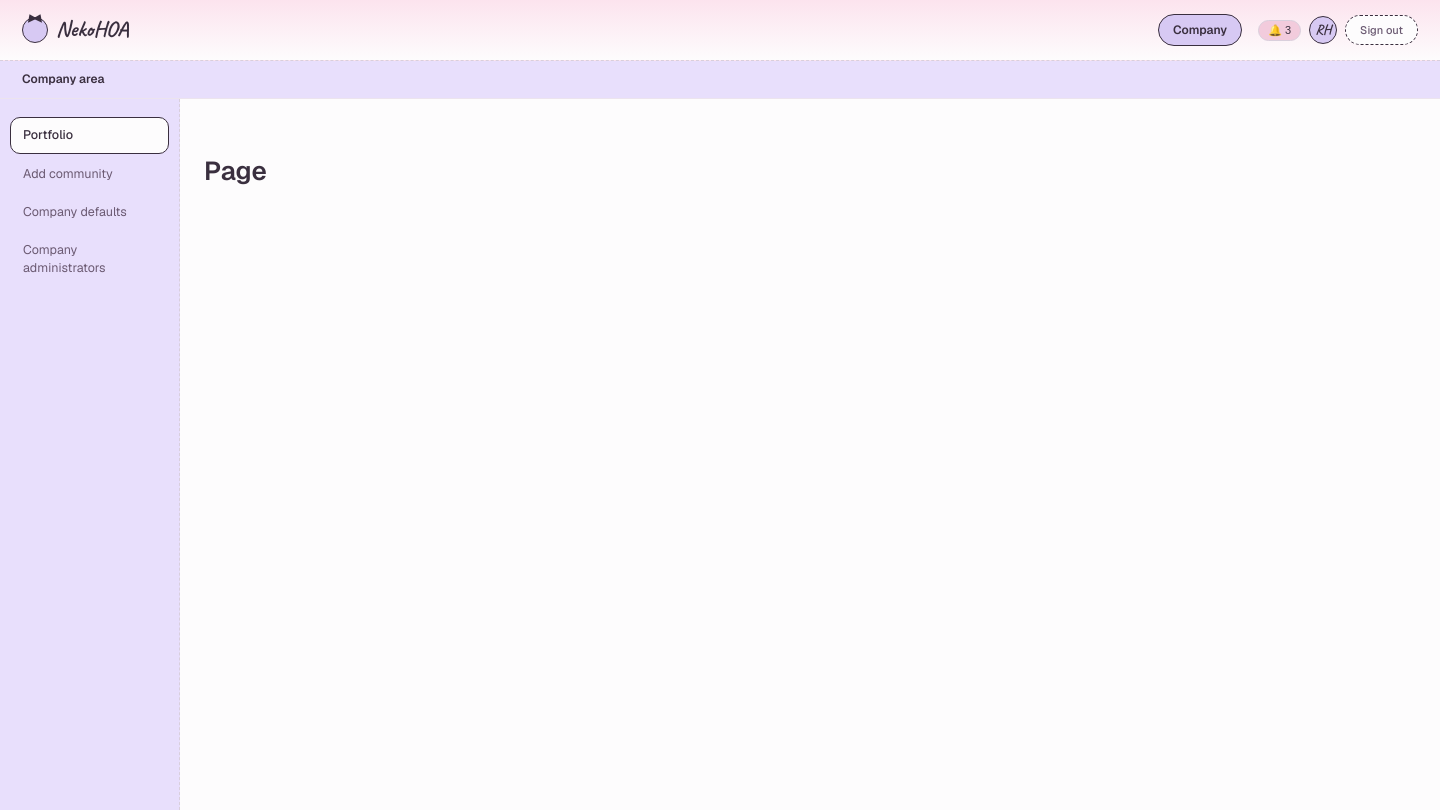
it: ShellComponent — company area (030 T069) › closes the menu on a click outside it, and on Tab
Click the button with aria-label "Company area menu": x=1200, y=30 x1=1158 y1=14 x2=1242 y2=46
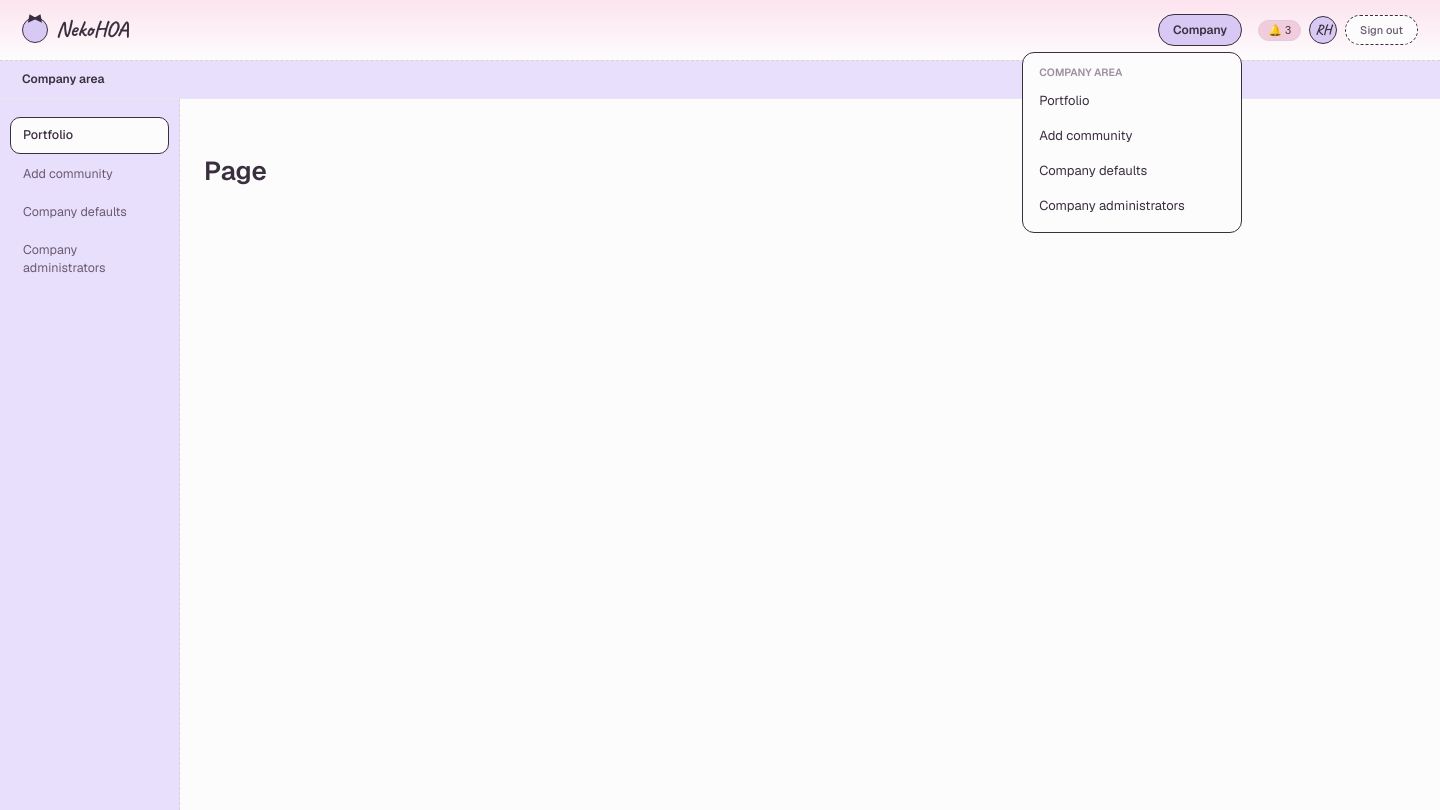
Click the element that starts with "NekoHOA": x=720, y=405 x1=0 y1=0 x2=1439 y2=809
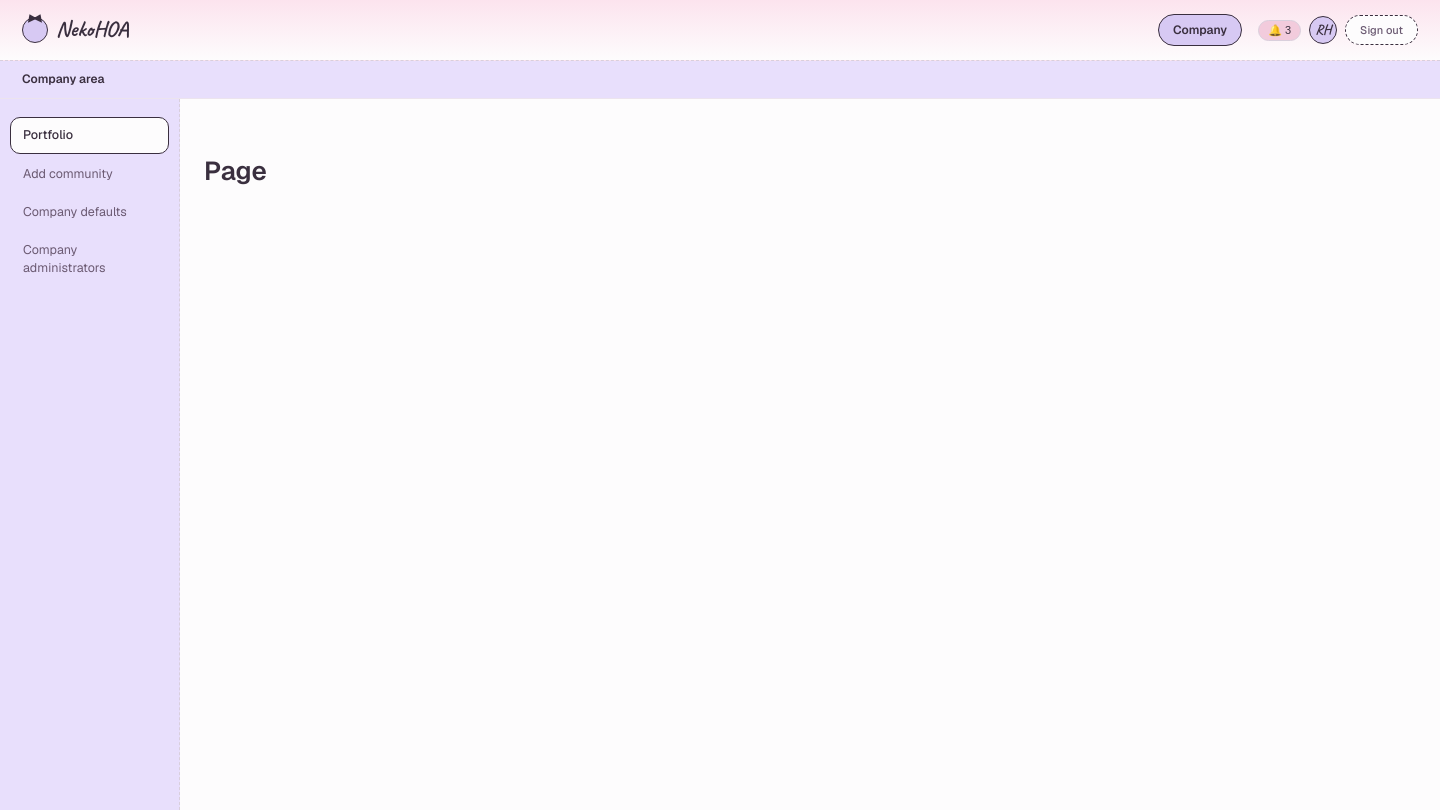
Check: the menu is gone
Press ArrowDown in the button with aria-label "Company area menu", box x1=1158 y1=14 x2=1242 y2=46
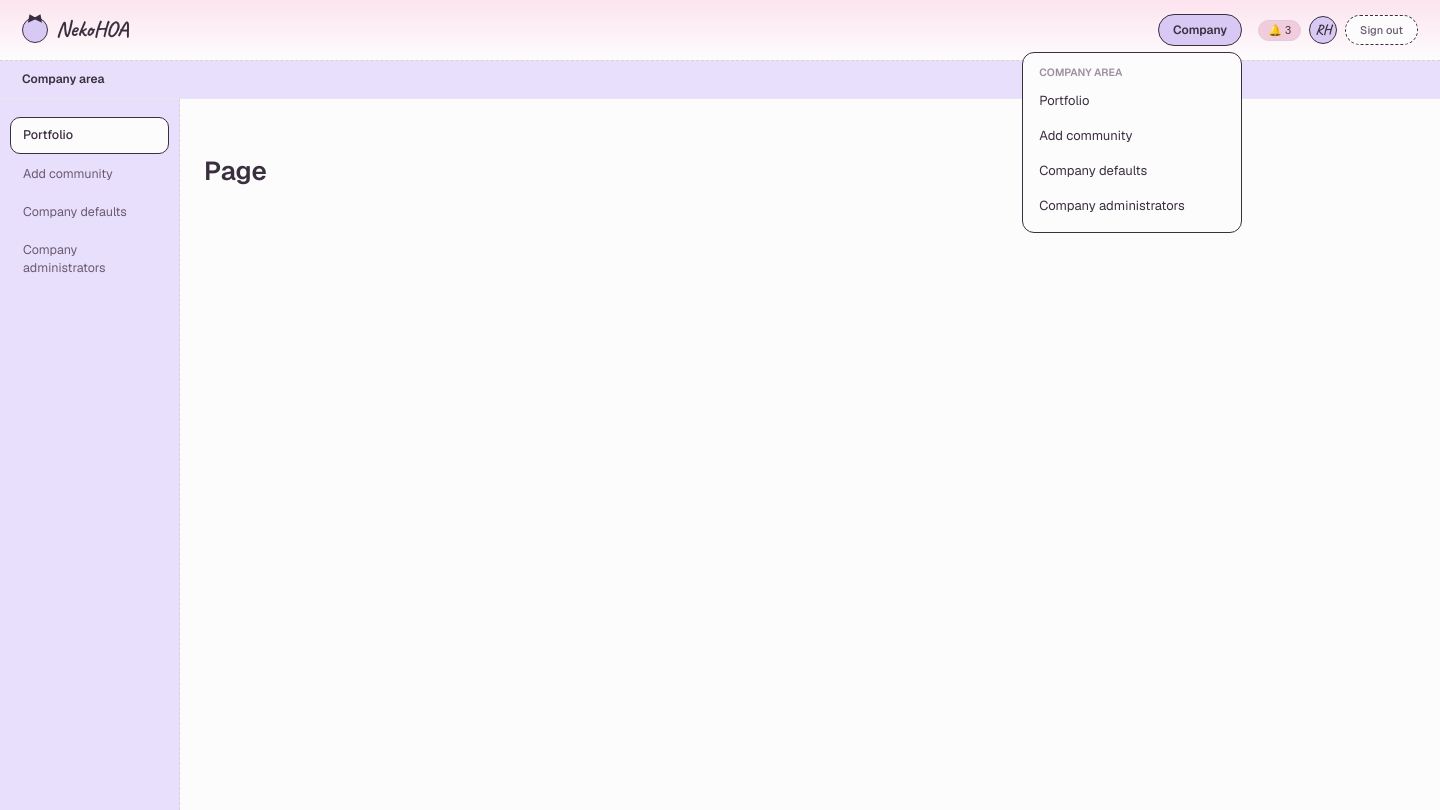
Check: the menu is shown, box x1=1039 y1=92 x2=1185 y2=214
Press Tab in the element with class "cmenu__panel", box x1=1022 y1=52 x2=1242 y2=233
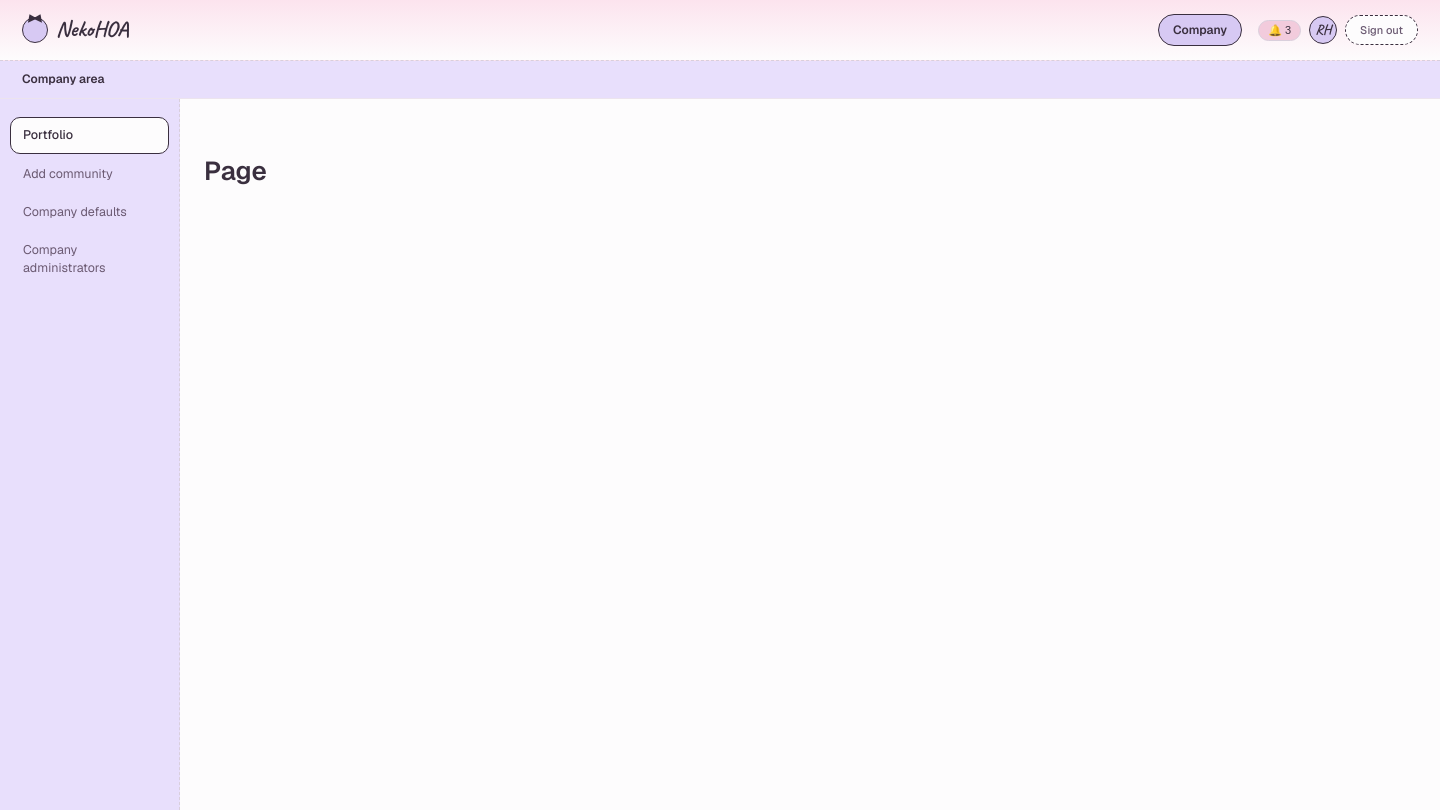
Check: the menu is gone
Click the button with aria-label "Company area menu": x=1200, y=30 x1=1158 y1=14 x2=1242 y2=46
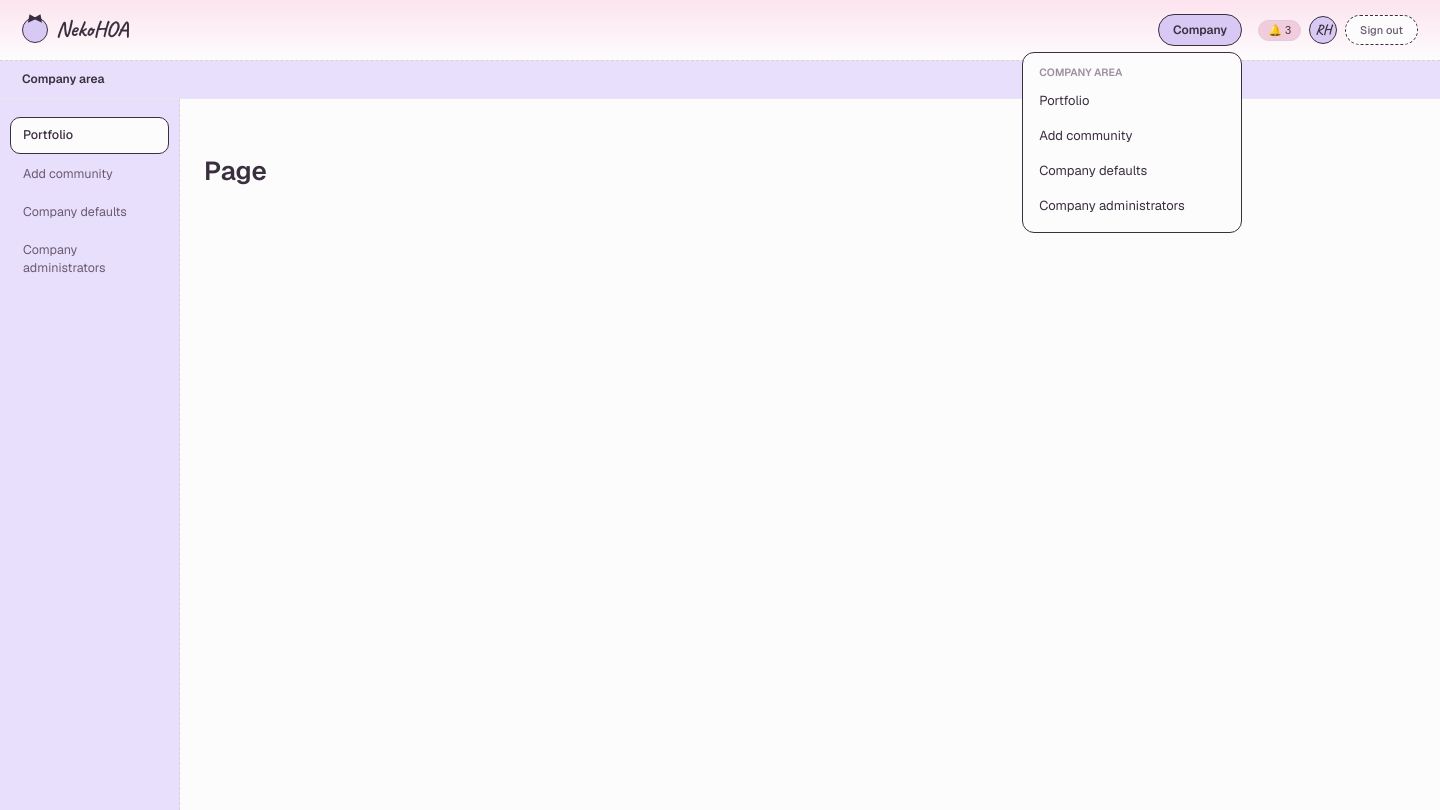
Click the button with aria-label "Company area menu": x=1200, y=30 x1=1158 y1=14 x2=1242 y2=46
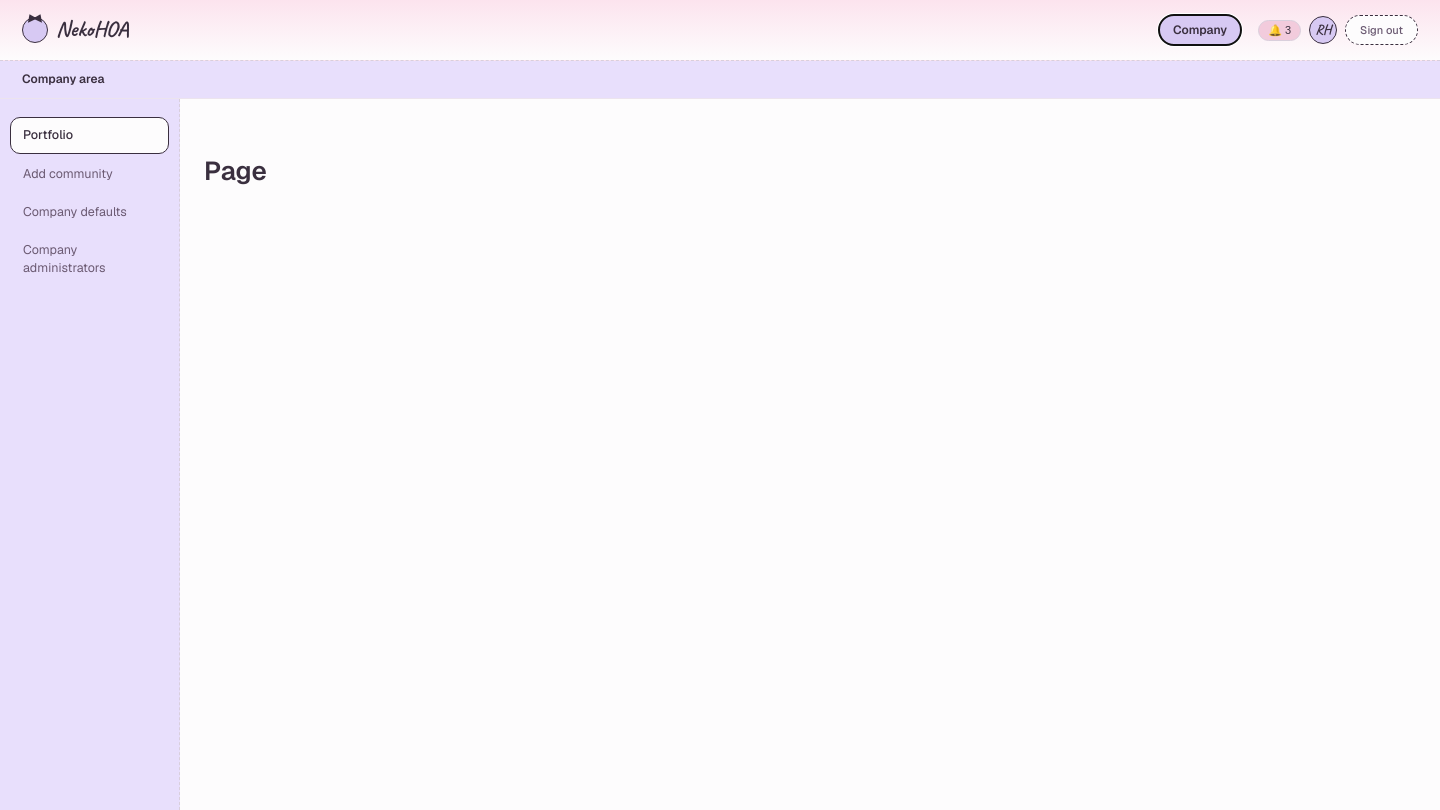
Check: the menu is gone
